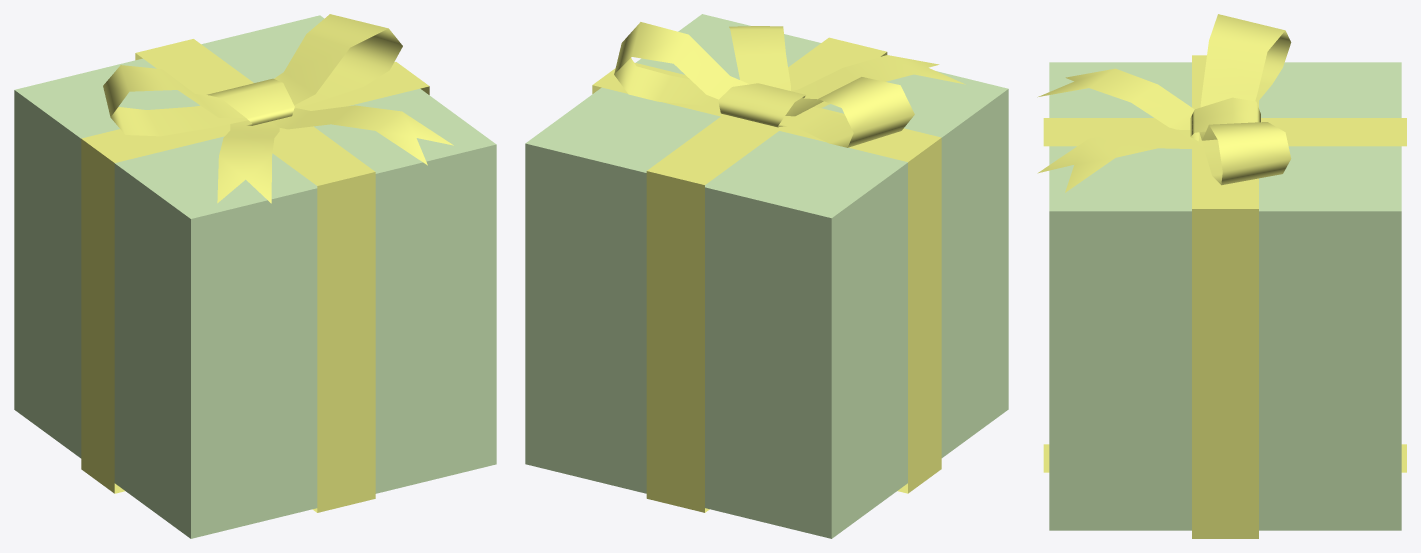
The model's file is PQ_Ch_GiftBox_A.fbx.
3 views of the same model, side by side, from view 1: azimuth 30°, elevation 25°; view 2: azimuth 150°, elevation 25°; view 3: azimuth 270°, elevation 25° (orthographic).
Parts seen in each view (by area): view 1: GiftBox_A; view 2: GiftBox_A; view 3: GiftBox_A.
Boxes of the visible parts, bbox=[...] form: GiftBox_A: bbox=[14, 14, 496, 538]; GiftBox_A: bbox=[525, 14, 1008, 538]; GiftBox_A: bbox=[1037, 14, 1406, 538].
Size of the model in its own units: 20.61 by 24.11 by 21.
